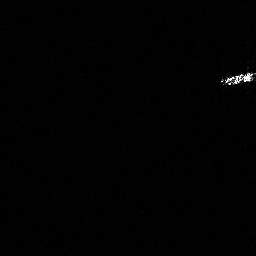ship: (217, 69, 256, 88)
